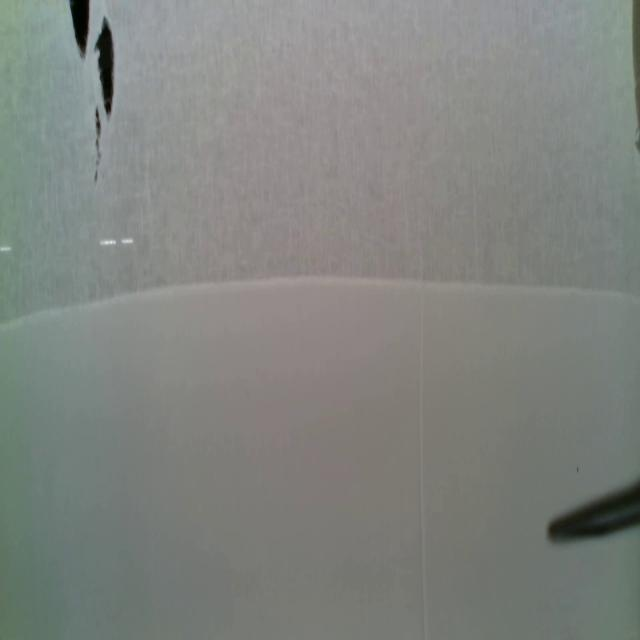crease: (417, 282, 429, 640)
hole: (94, 16, 116, 119), (630, 1, 640, 152), (68, 0, 92, 60), (93, 107, 104, 182), (575, 463, 580, 478)
